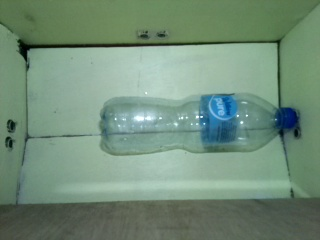bottle: (99, 91, 297, 155)
